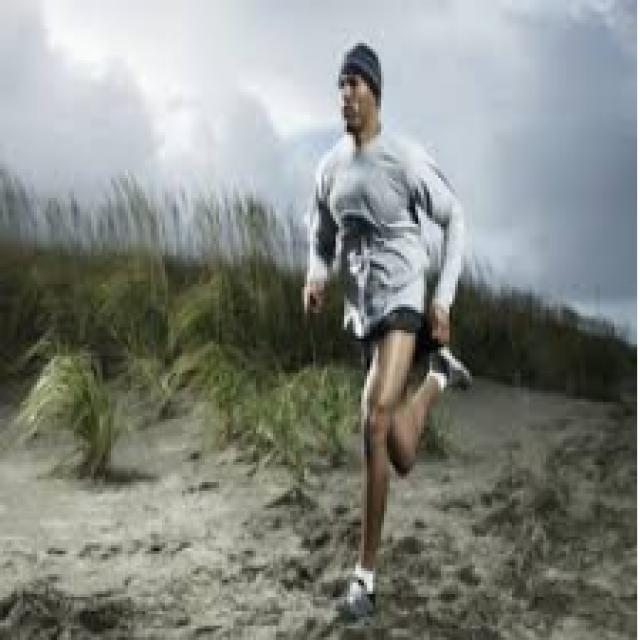running: (297, 42, 476, 620)
